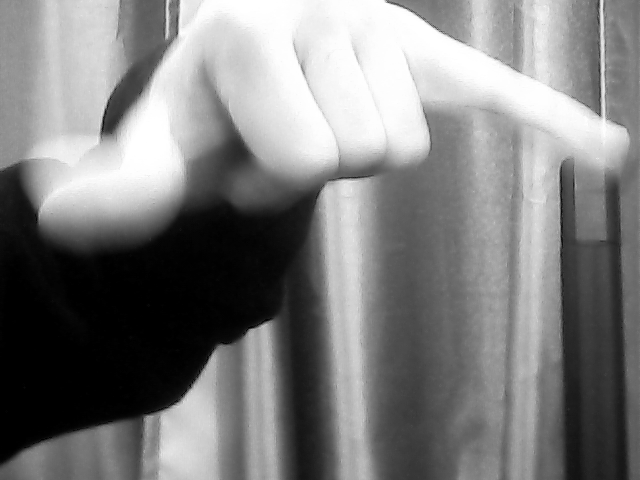aloha: (37, 1, 627, 257)
